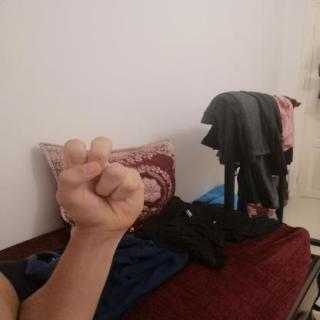QAAF: (36, 128, 166, 240)
